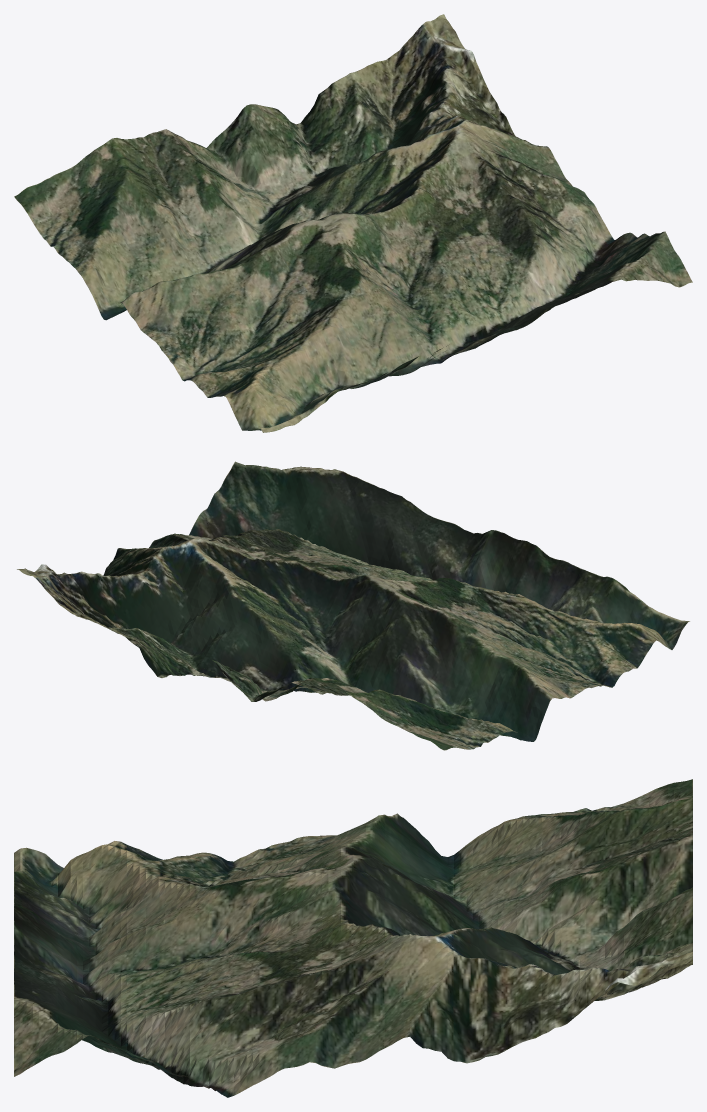
3 views of the same model, one above another, from view 1: azimuth 30°, elevation 25°; view 2: azimuth 150°, elevation 25°; view 3: azimuth 270°, elevation 25° (orthographic). The views are drawn at different scales.
Parts seen in each view (by area): view 1: geometry_0; view 2: geometry_0; view 3: geometry_0.
Part boxes in pixels (<box>): geometry_0: <box>14,14,692,432</box>; geometry_0: <box>17,461,689,750</box>; geometry_0: <box>14,779,692,1097</box>.
Size of the model in its own units: 9988 by 3206 by 10010.
Materials: 1 (1 with a texture image).
